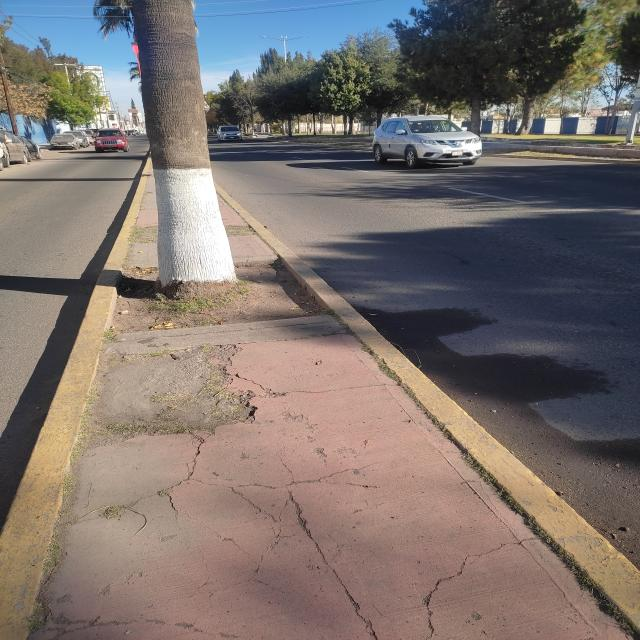Auto: (373, 111, 492, 172), (92, 122, 130, 159), (44, 128, 85, 159), (210, 122, 252, 148)
